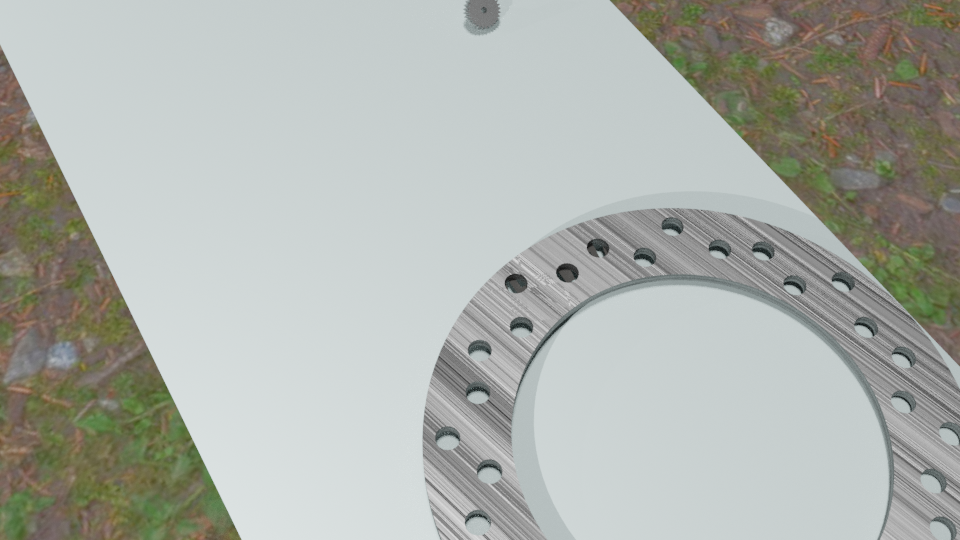yamaha_letters: (503, 238, 609, 293)
